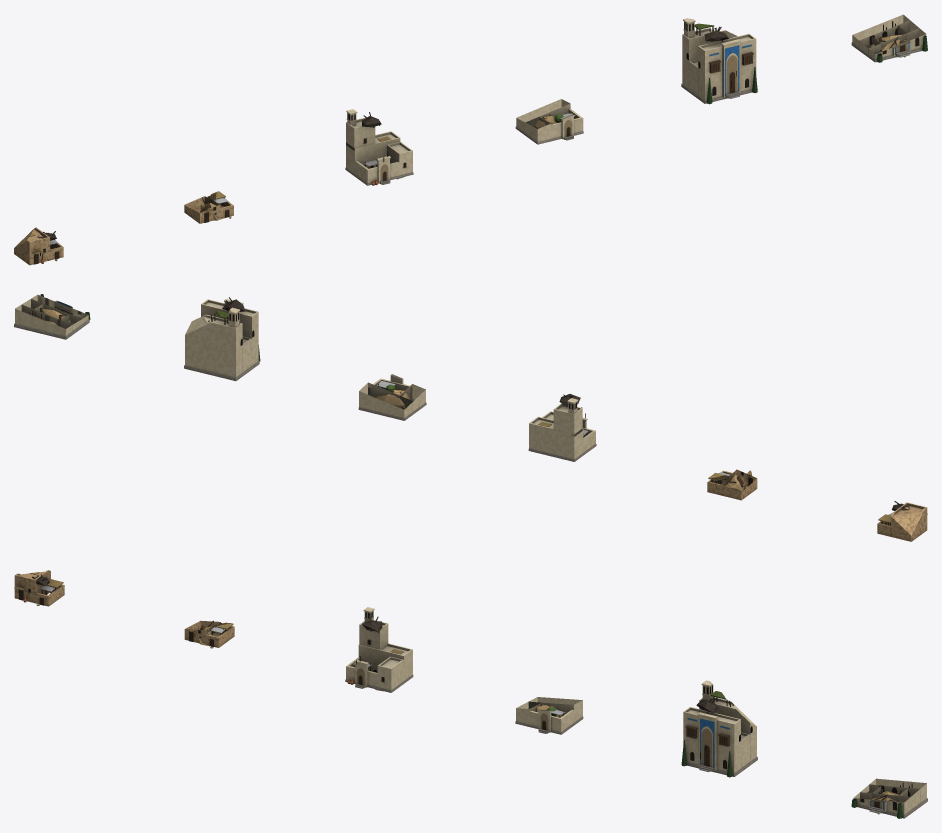
File: kingdoms-levant-houses-damage.glb
The picture shows the model from 3 angles, top to bottom: view 1: azimuth 30°, elevation 25°; view 2: azimuth 150°, elevation 25°; view 3: azimuth 330°, elevation 25°; orthographic projection.
Visible parts, largest first — view 1: LOD0.004, LOD0.002, LOD0.005, LOD0.003, LOD0, LOD0.001; view 2: LOD0.004, LOD0.002, LOD0.005, LOD0.003, LOD0, LOD0.001; view 3: LOD0.004, LOD0.002, LOD0.005, LOD0.003, LOD0, LOD0.001.
Part boxes in pixels (x1,y1,x2,y2): LOD0.004: (681, 18, 757, 104); LOD0.002: (345, 109, 413, 185); LOD0.005: (851, 14, 927, 62); LOD0.003: (515, 99, 583, 144); LOD0: (14, 227, 63, 265); LOD0.001: (184, 191, 233, 223); LOD0.004: (184, 297, 260, 381); LOD0.002: (528, 394, 596, 461); LOD0.005: (14, 294, 90, 339); LOD0.003: (358, 374, 426, 420); LOD0: (877, 501, 927, 541); LOD0.001: (707, 469, 757, 500); LOD0.004: (681, 680, 757, 777); LOD0.002: (345, 607, 413, 692); LOD0.005: (851, 778, 927, 818); LOD0.003: (515, 697, 583, 734); LOD0: (14, 570, 64, 606); LOD0.001: (184, 620, 234, 648).
Size of what is drawn, in the model's own units: 15.76 by 1.15 by 0.8505.
3 materials, 3 textured.
